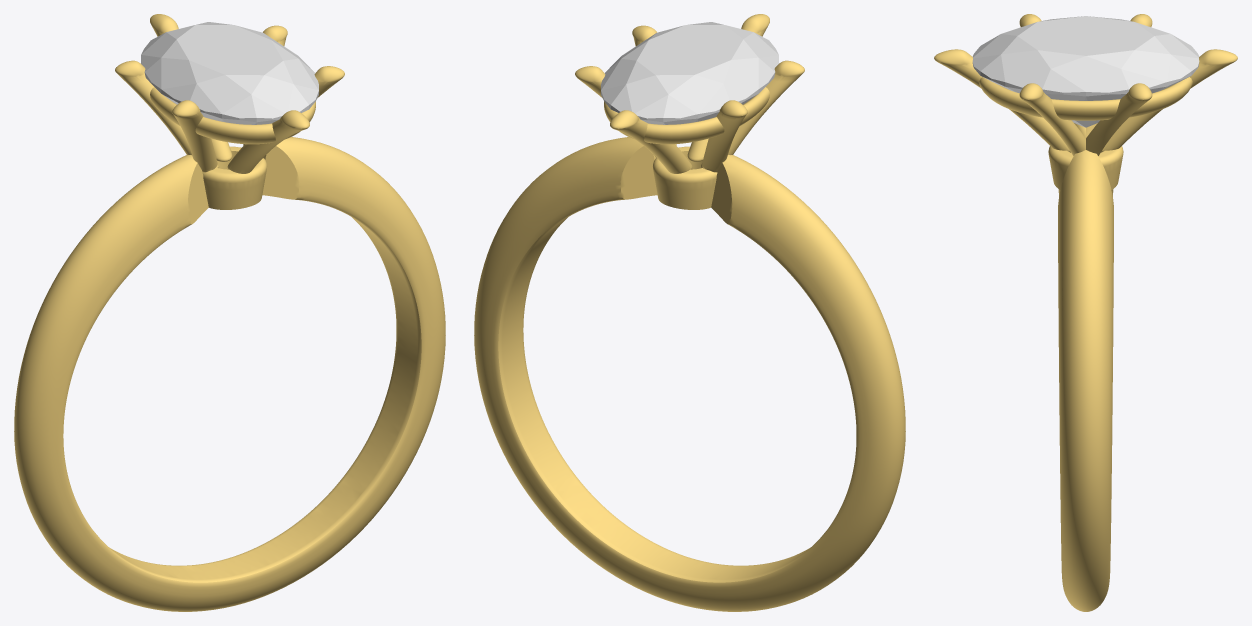
File: Redd6prongs_blender.glb
The picture shows the model from 3 angles, left to right: view 1: azimuth 30°, elevation 25°; view 2: azimuth 150°, elevation 25°; view 3: azimuth 270°, elevation 25°; orthographic projection.
Visible parts, largest first — view 1: V2 Redd YG for 3d model, V2 Redd dia for 3d model; view 2: V2 Redd YG for 3d model, V2 Redd dia for 3d model; view 3: V2 Redd YG for 3d model, V2 Redd dia for 3d model.
Part boxes in pixels (<box>): V2 Redd YG for 3d model: <box>14,14,445,611</box>; V2 Redd dia for 3d model: <box>141,22,318,124</box>; V2 Redd YG for 3d model: <box>474,14,905,611</box>; V2 Redd dia for 3d model: <box>601,22,778,124</box>; V2 Redd YG for 3d model: <box>934,14,1237,611</box>; V2 Redd dia for 3d model: <box>972,16,1199,127</box>.
Size of the model in its own units: 21.75 by 27.06 by 13.48.
